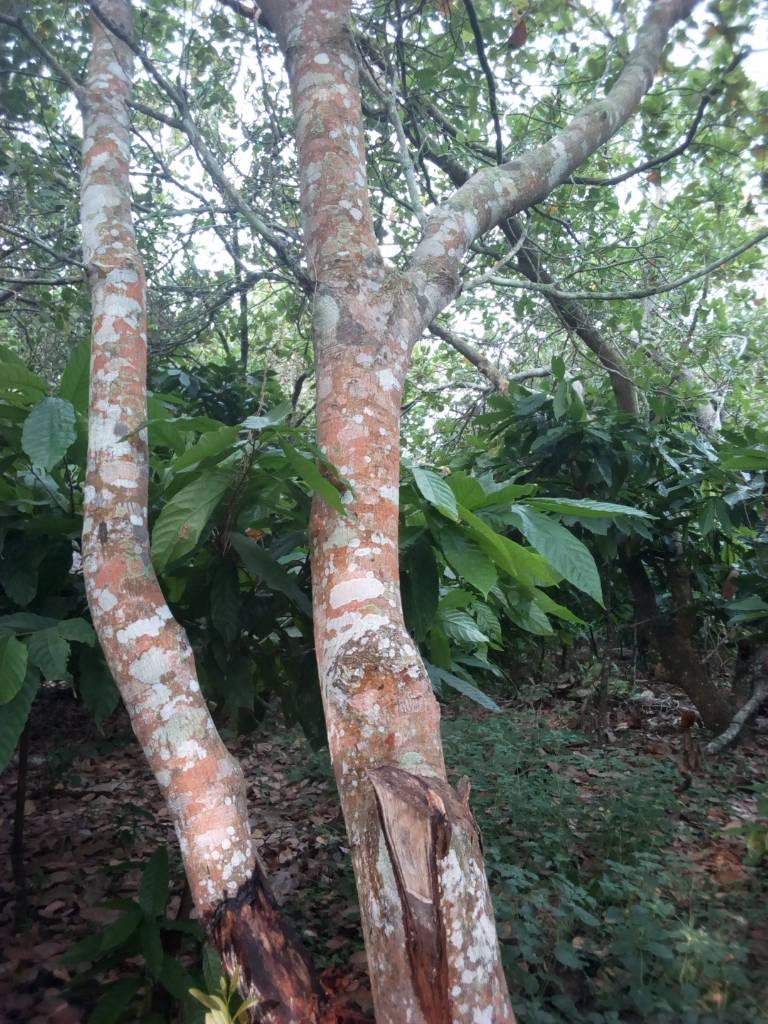ploceadorus ferrugineus: (339, 753, 511, 1003), (157, 835, 324, 1015)
